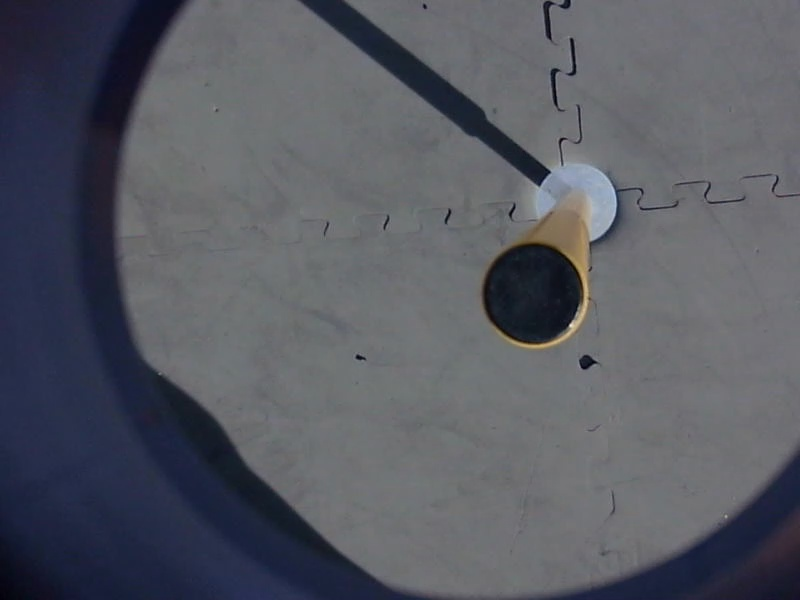tip: (475, 238, 595, 359)
